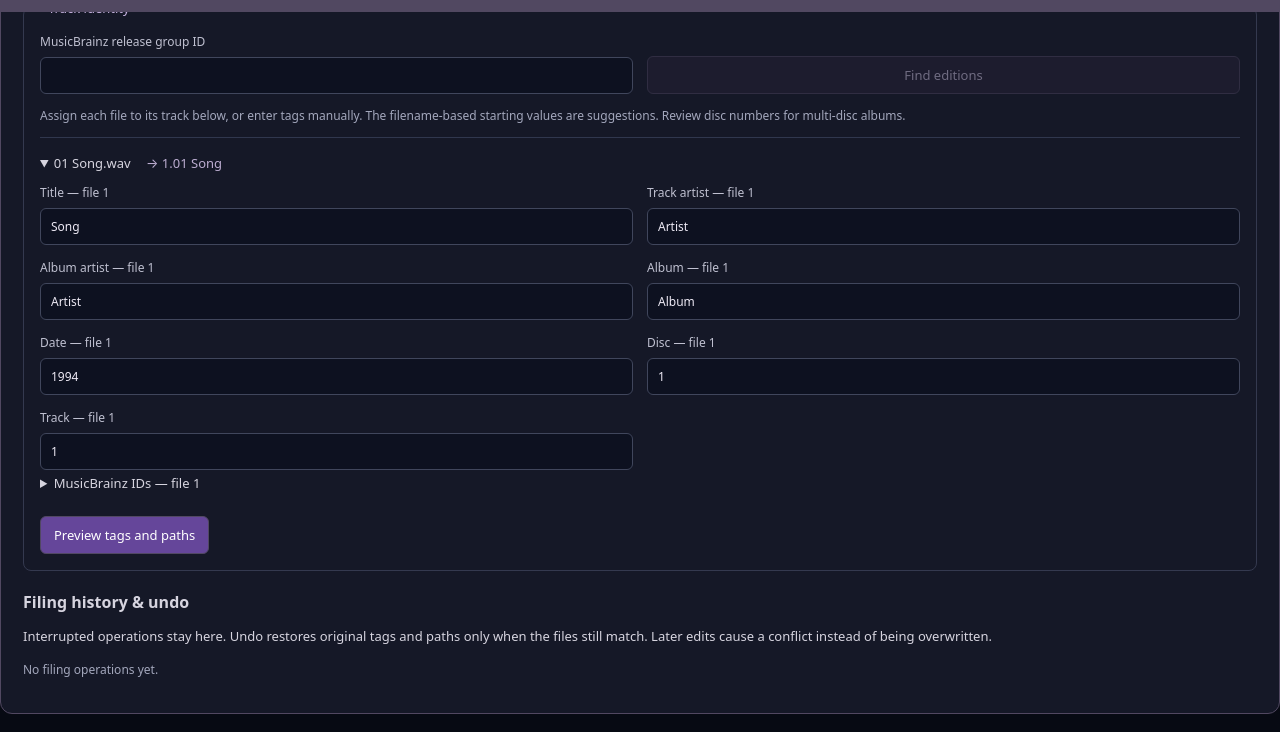
Scenario: surfaces preview collisions without allowing apply
This screenshot has width=1280, height=732.
(page scrolled)
Click the button "Preview tags and paths" at (125, 535), box [40,516,209,554]
(page scrolled)
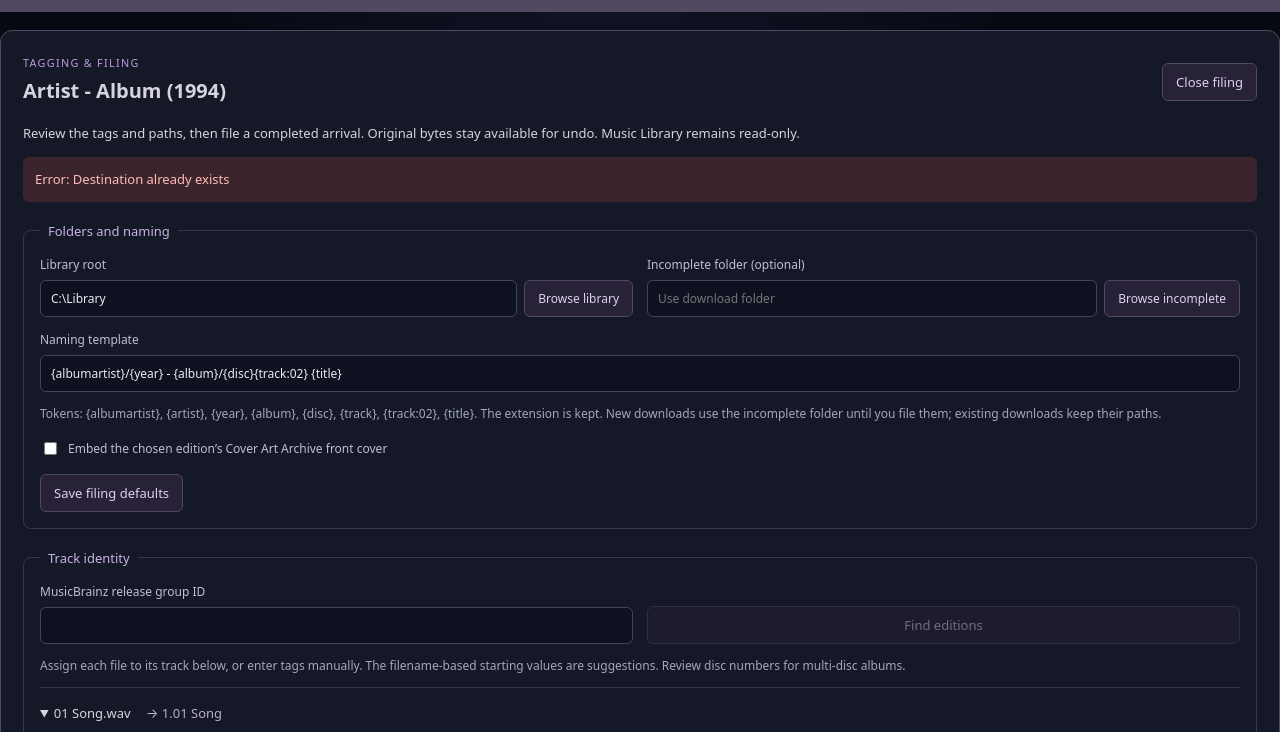
Check: the message shows "Destination already exists", box [35,170,229,188]
